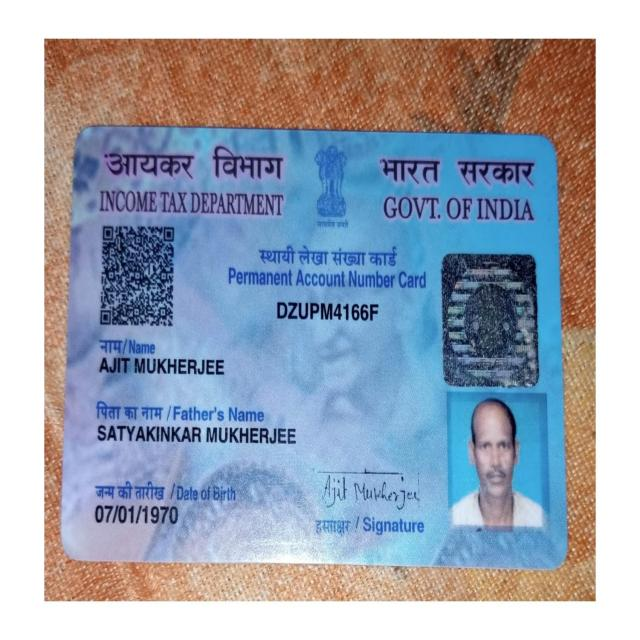pan_card: (63, 131, 564, 559)
